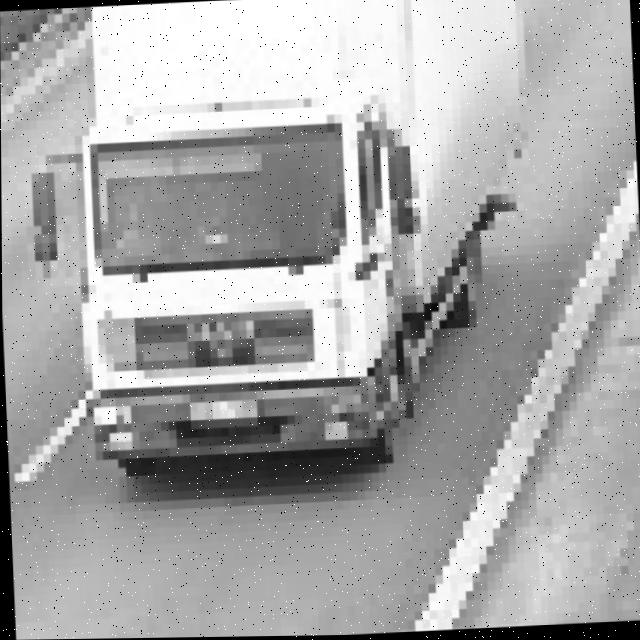truck: (20, 53, 447, 499)
